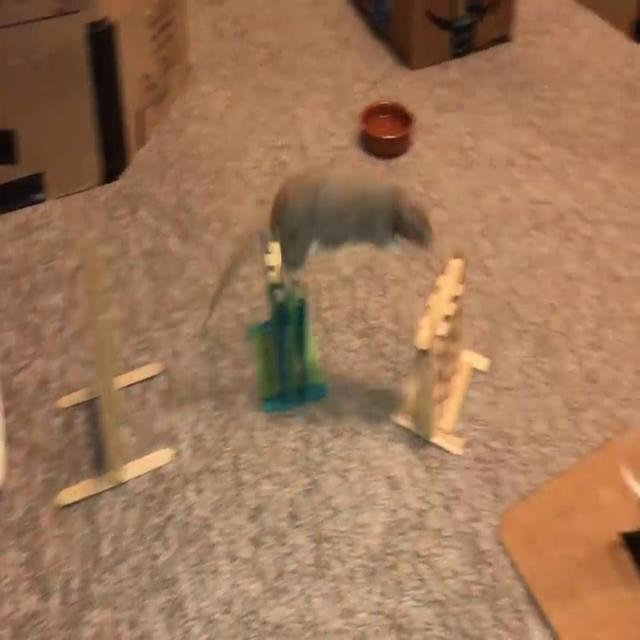rat: (209, 165, 434, 317)
